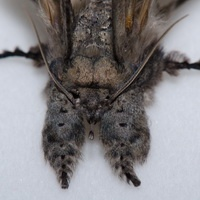insect: (0, 57, 199, 199), (161, 0, 199, 61)
